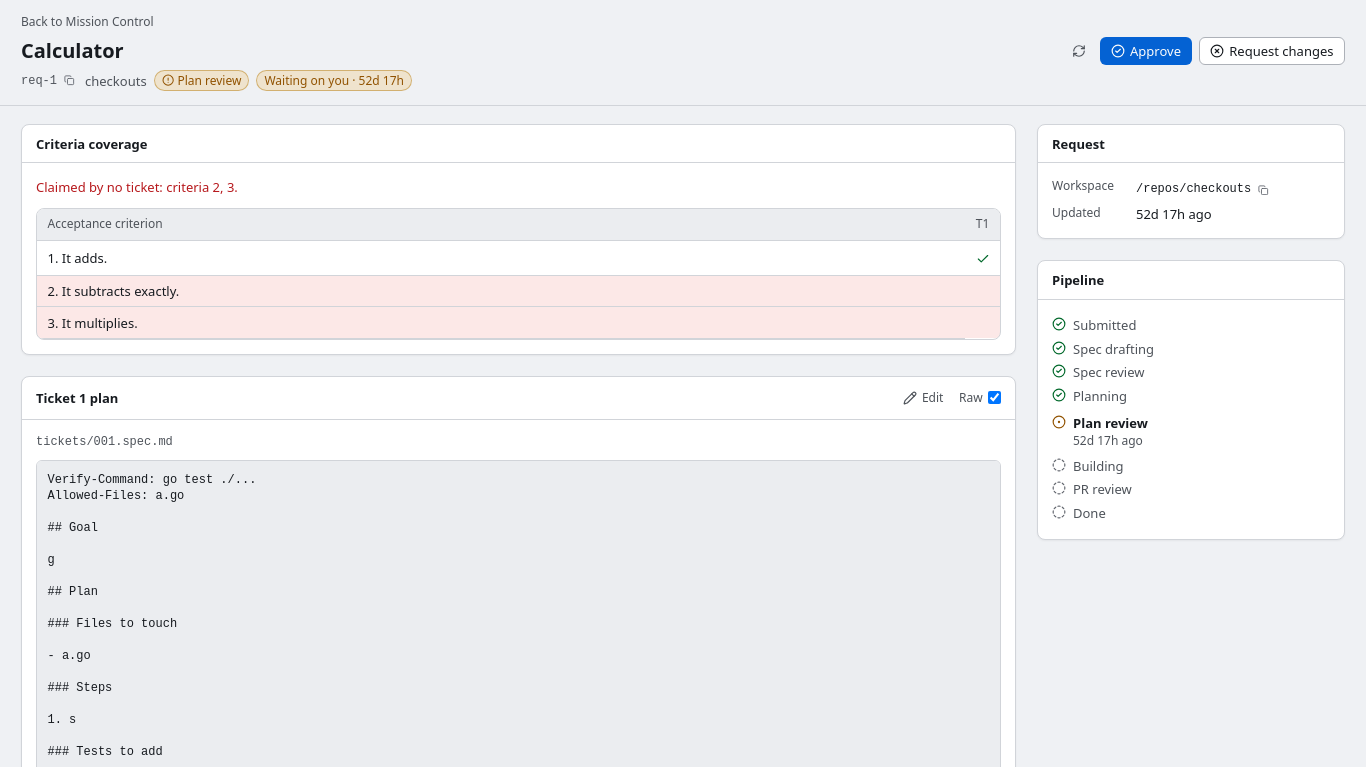
Test: a ticket's header lines and covered criteria as fields › the fields show the header values and the spec's criteria, the covered ones ticked
expect the heading "Calculator" is shown: met, box [21,37,124,64]
Click the button "Edit" at (923, 398), box [894,386,952,410]
(page scrolled)
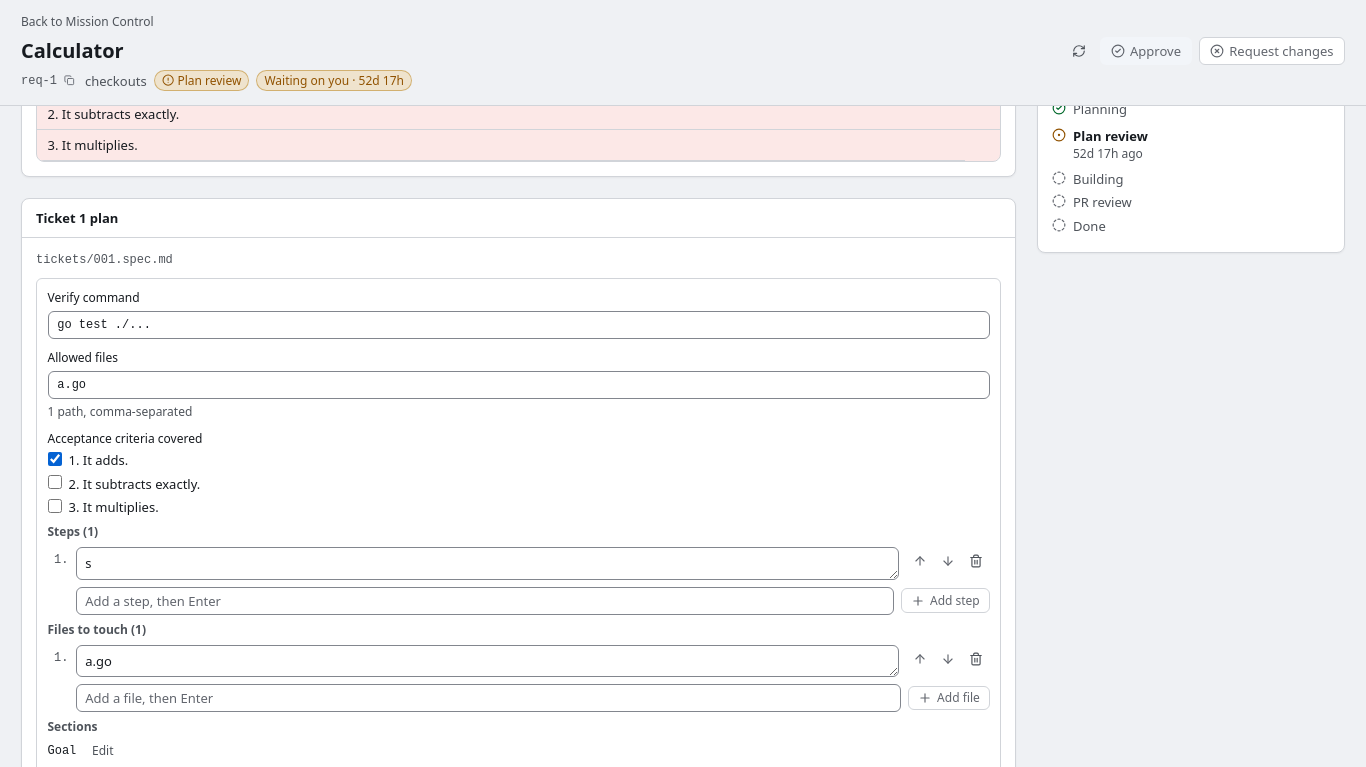
expect the field labelled "Verify command" holds "go test ./...": met, box [48,311,990,339]
expect the field labelled "Allowed files" holds "a.go": met, box [48,371,990,399]
